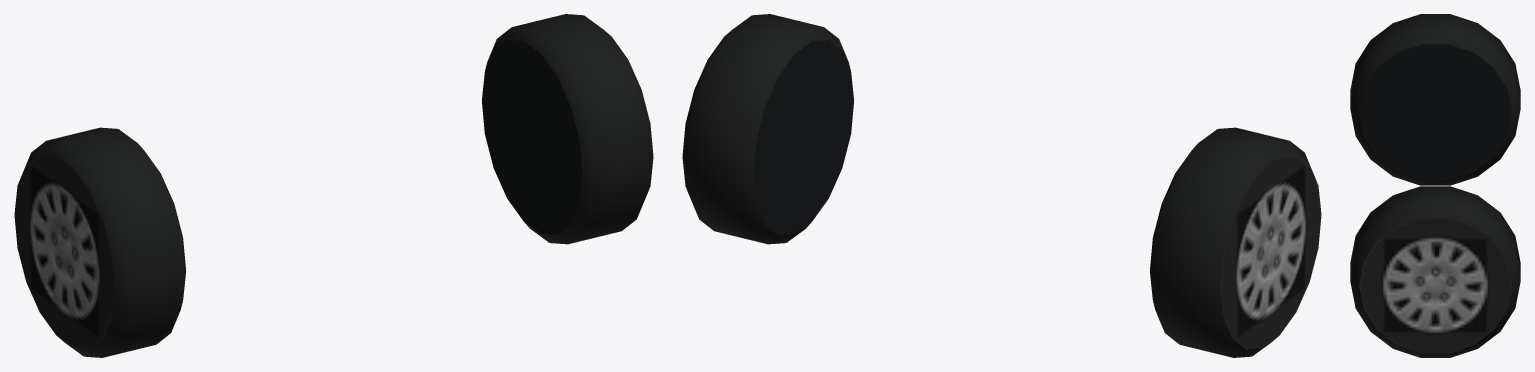
Rendered from fullsize_trooper_wheels_r.obj.
3 views of the same model, side by side, from view 1: azimuth 30°, elevation 25°; view 2: azimuth 150°, elevation 25°; view 3: azimuth 270°, elevation 25° (orthographic). The views are drawn at different scales.
Parts seen in each view (by area): view 1: fullsize_trooper_wheels_r; view 2: fullsize_trooper_wheels_r; view 3: fullsize_trooper_wheels_r.
Part boxes in pixels (x1,y1,x2,y2): fullsize_trooper_wheels_r: [14, 14, 653, 357]; fullsize_trooper_wheels_r: [682, 14, 1321, 357]; fullsize_trooper_wheels_r: [1350, 14, 1520, 357].
Bounding box in the file's own units: 1.87 × 0.6643 × 0.6746.
